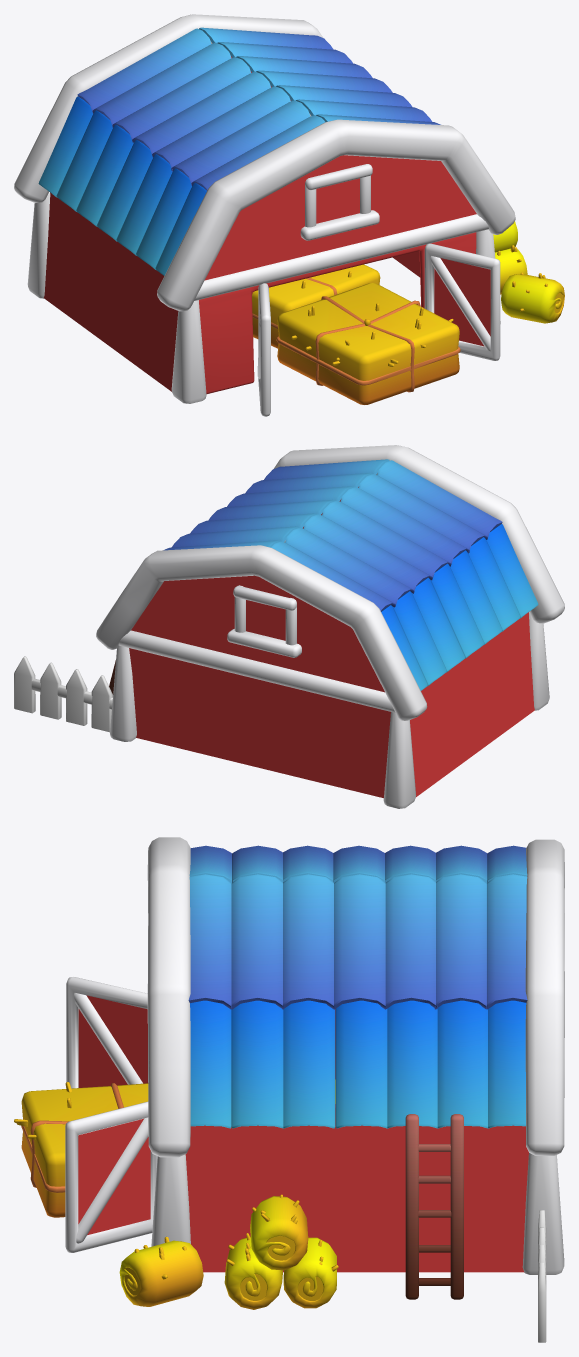
File: Big_Farm_House.fbx
3 views of the same model, one above another, from view 1: azimuth 30°, elevation 25°; view 2: azimuth 150°, elevation 25°; view 3: azimuth 270°, elevation 25° (orthographic). The views are drawn at different scales.
Parts seen in each view (by area): view 1: Cube.021, Plane.007, Cube.127, Plane.005, Cube.084, Plane.001, Cube.077, Cube.072, Cube.012, Cube.010, Cube.009, Cube.008 (+29 smaller); view 2: Plane.003, Cube.084, Plane.002, Plane.005, Cube.021, Cube.038, Cube.008, Cube.010, Cube.011, Cube.009, Cube.013, Cube.012 (+24 smaller); view 3: Plane.004, Cube.021, Cube.084, Cube.077, Cube.075, Cube.001, Cube.003, Cube.015, Cube.014, Cube.016, Cube.004, Cube.002 (+25 smaller).
Part boxes in pixels (x1,y1,x2,y2): Cube.021: (157,119,515,311); Plane.007: (204,155,476,280); Cube.127: (277,283,459,404); Plane.005: (44,192,178,391); Cube.084: (14,14,323,202); Plane.001: (199,232,476,393); Cube.077: (424,243,500,360); Cube.072: (194,214,488,300); Cube.012: (171,100,310,185); Cube.010: (132,71,270,153); Cube.009: (112,57,250,139); Cube.008: (92,42,231,127); Plane.003: (129,648,390,798); Cube.084: (96,545,427,720); Plane.002: (131,575,384,692); Plane.005: (410,612,534,796); Cube.021: (273,445,564,623); Cube.038: (118,630,395,712); Cube.008: (285,527,414,606); Cube.010: (322,500,451,577); Cube.011: (340,487,469,563); Cube.009: (303,514,432,593); Cube.013: (377,460,502,539); Cube.012: (358,474,487,553); Plane.004: (185,1104,528,1272); Cube.021: (147,837,190,1157); Cube.084: (525,839,564,1155); Cube.077: (65,1101,157,1252); Cube.075: (66,977,147,1088); Cube.001: (231,874,283,1009); Cube.003: (334,874,385,1009); Cube.015: (283,1000,335,1128); Cube.014: (231,1000,283,1128); Cube.016: (335,1000,387,1128); Cube.004: (385,874,437,1009); Cube.002: (282,874,333,1009).
Bounding box in the file's own units: 1206 × 628 × 1010.
Materials: 1 (1 with a texture image).
